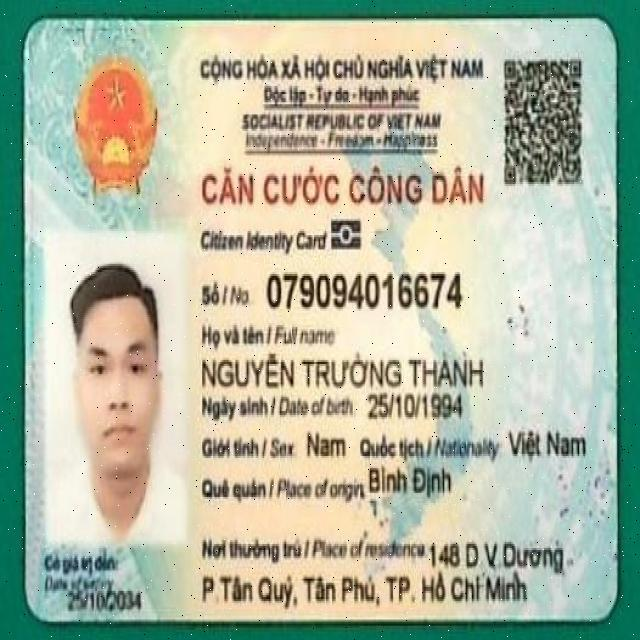current_place: (199, 568, 532, 608), (428, 532, 569, 573)
dob: (365, 389, 465, 422)
expire_date: (64, 587, 149, 616)
gender: (304, 432, 347, 463)
id: (264, 270, 467, 309)
name: (201, 348, 489, 392)
nationality: (507, 430, 590, 463)
origin_place: (366, 462, 456, 496)
qr: (502, 52, 585, 190)
